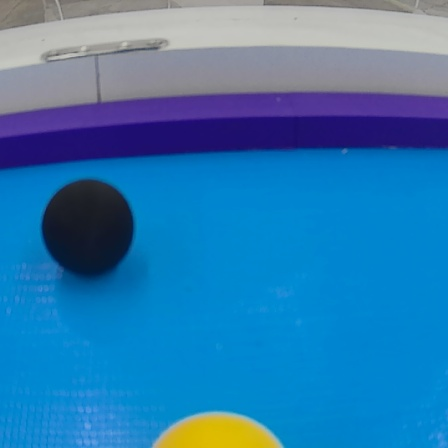black: (37, 177, 138, 280)
blue_aim: (3, 88, 448, 448)
yellow: (133, 405, 286, 448)
